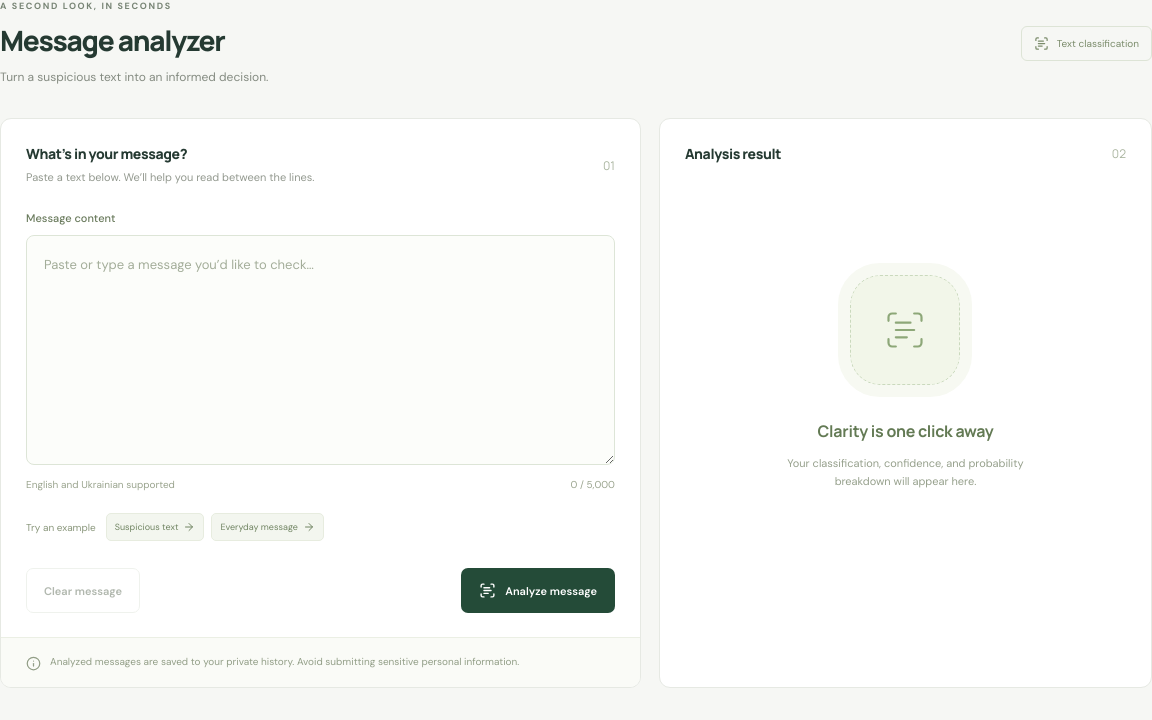
Message analyzer › shows a friendly service error
Step 1. Type "hello" into the text box labelled "Message content" → point(320, 350), box left=26, top=236, right=615, bottom=466
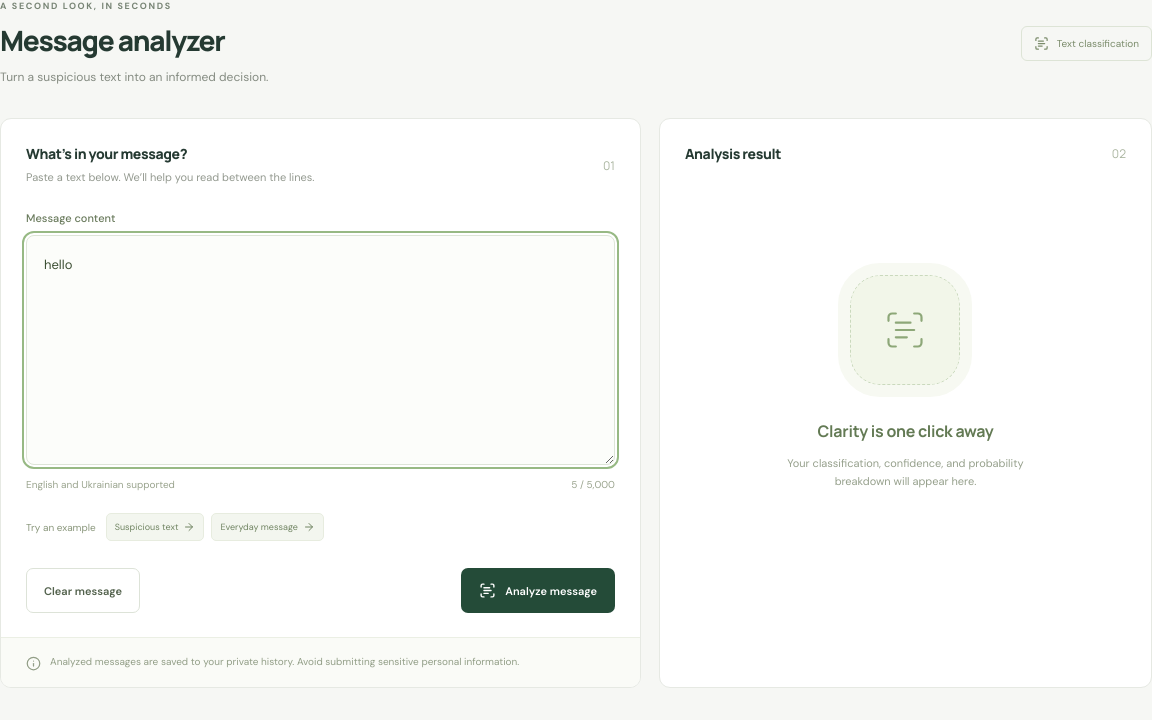
Step 2. Click the button "Analyze message" → point(538, 591), box left=461, top=568, right=615, bottom=614
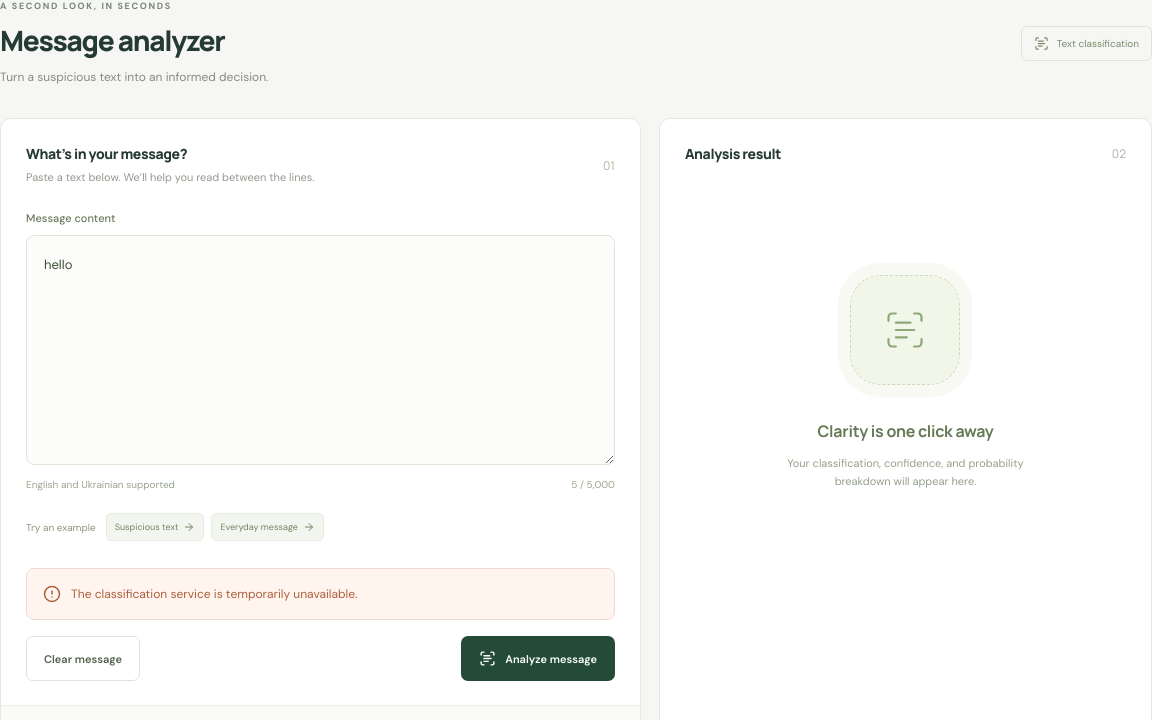
Expected: the button "Analyze message" is enabled, left=461, top=636, right=615, bottom=682
Result: the message shows "temporarily unavailable" at left=71, top=586, right=357, bottom=602
